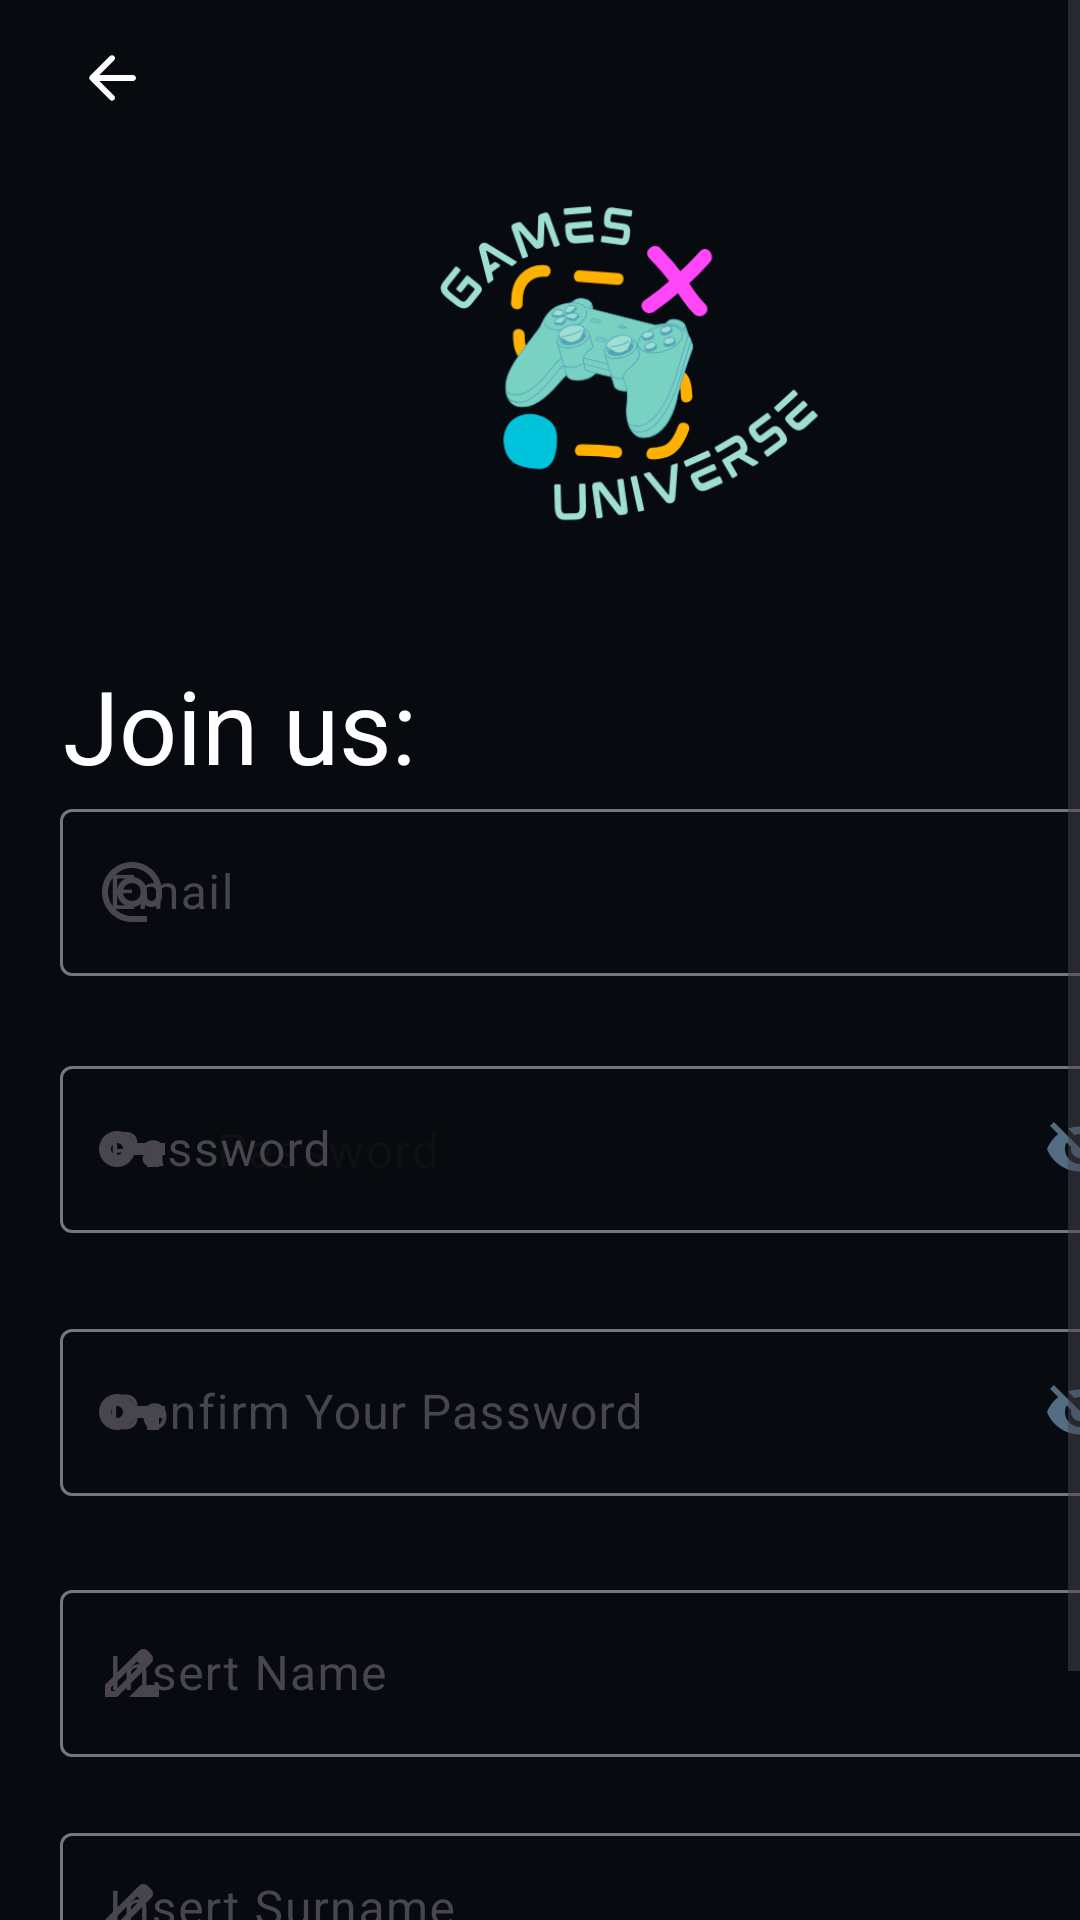

Locate icon controls on the screen. Image size 1080 × 1920, boxes as (x1, y1, x2, y2).
arrow back: (89, 55, 136, 101)
